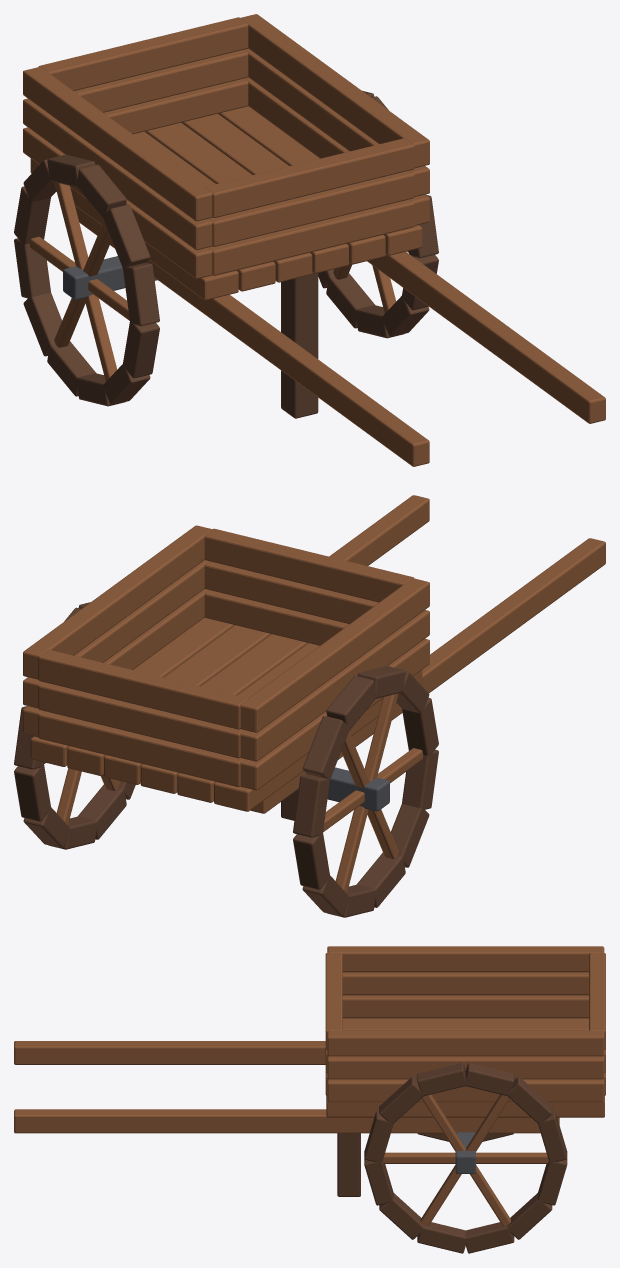
Rendered from ashwick-handcart.meshopt.glb.
3 views of the same model, one above another, from view 1: azimuth 30°, elevation 25°; view 2: azimuth 150°, elevation 25°; view 3: azimuth 270°, elevation 25° (orthographic). The views are drawn at different scales.
Visible parts, largest first — view 1: Tail boards.001, Side boards.001, Wheel rim.001, Shaft.001, Bed planks.001, Spokes.001, Parking leg.001, Axle.001; view 2: Tail boards.001, Side boards.001, Wheel rim.001, Bed planks.001, Shaft.001, Spokes.001, Axle.001; view 3: Side boards.001, Shaft.001, Wheel rim.001, Bed planks.001, Spokes.001, Tail boards.001, Parking leg.001, Axle.001.
Boxes of the visible parts, x1,y1,x2,y2 form: Tail boards.001: (38, 17, 414, 275); Side boards.001: (23, 14, 429, 278); Wheel rim.001: (14, 90, 438, 406); Shaft.001: (75, 206, 605, 466); Bed planks.001: (30, 106, 422, 300); Spokes.001: (29, 182, 408, 381); Parking leg.001: (281, 272, 318, 418); Axle.001: (63, 256, 157, 299); Tail boards.001: (38, 528, 414, 786); Side boards.001: (23, 525, 429, 790); Wheel rim.001: (14, 602, 438, 917); Bed planks.001: (30, 617, 422, 811); Shaft.001: (250, 495, 605, 813); Spokes.001: (44, 693, 423, 892); Axle.001: (295, 767, 389, 811); Side boards.001: (327, 946, 604, 1102); Shaft.001: (14, 1041, 559, 1133); Wheel rim.001: (364, 1063, 567, 1253); Bed planks.001: (326, 1018, 604, 1117); Spokes.001: (383, 1094, 548, 1226); Tail boards.001: (325, 953, 605, 1095); Parking leg.001: (337, 1133, 360, 1196); Axle.001: (455, 1132, 475, 1173).
Size of the model in its own units: 1.72 by 1.34 by 3.5.
